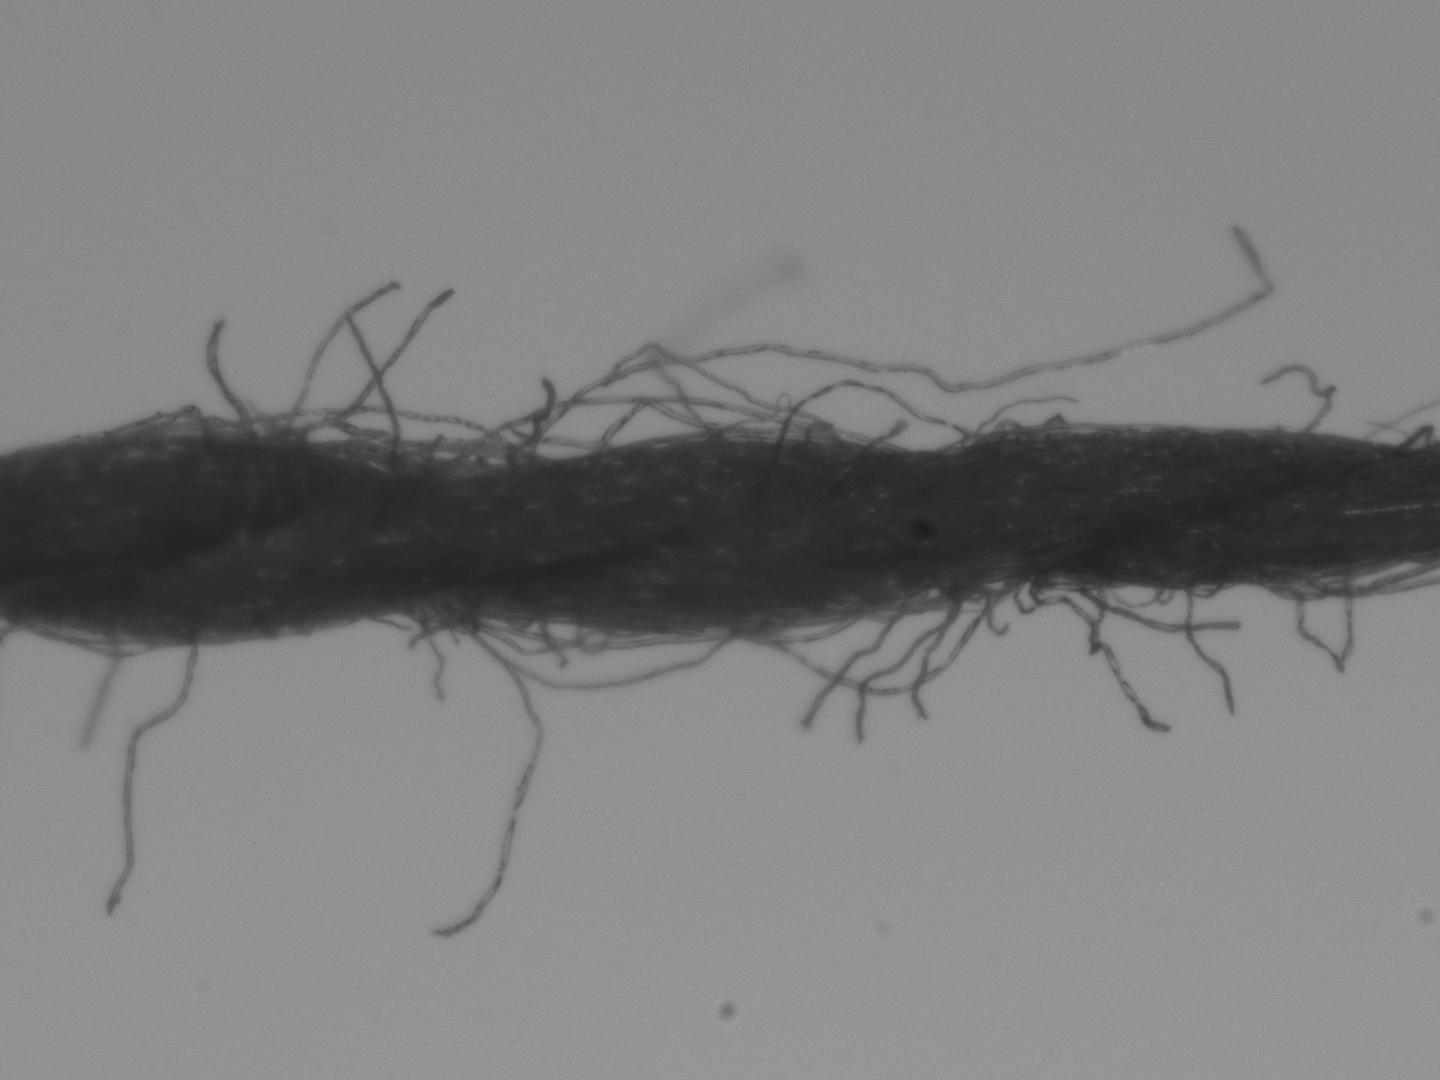loop_fiber: (771, 580, 1010, 690), (457, 616, 723, 685), (277, 414, 523, 473), (772, 382, 974, 450), (588, 399, 746, 457), (16, 613, 158, 659), (1289, 556, 1424, 597), (1392, 424, 1432, 450)
protruding_fiber: (101, 643, 200, 910), (1027, 582, 1172, 733), (793, 607, 917, 729), (1183, 580, 1234, 708), (345, 320, 396, 448), (207, 319, 252, 438), (510, 376, 554, 467)
